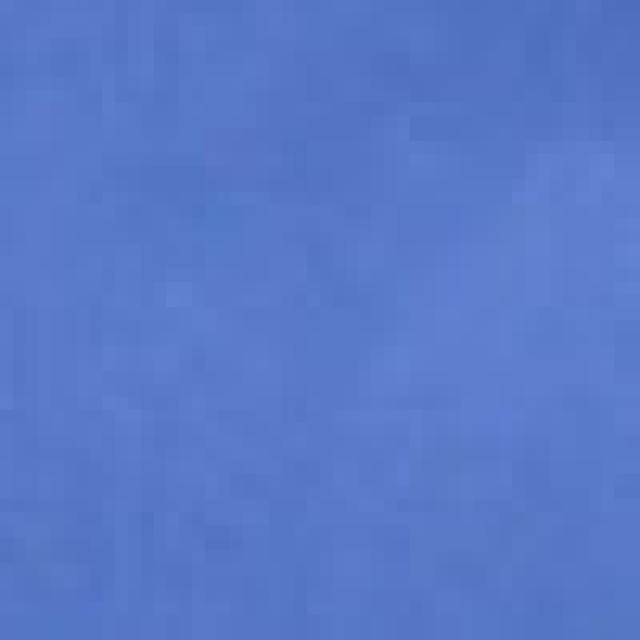no_fire: (0, 12, 640, 581)
